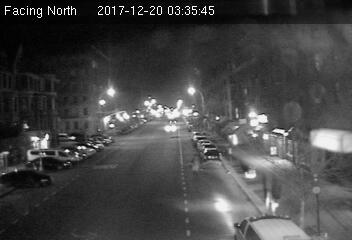police: (232, 211, 312, 240)
